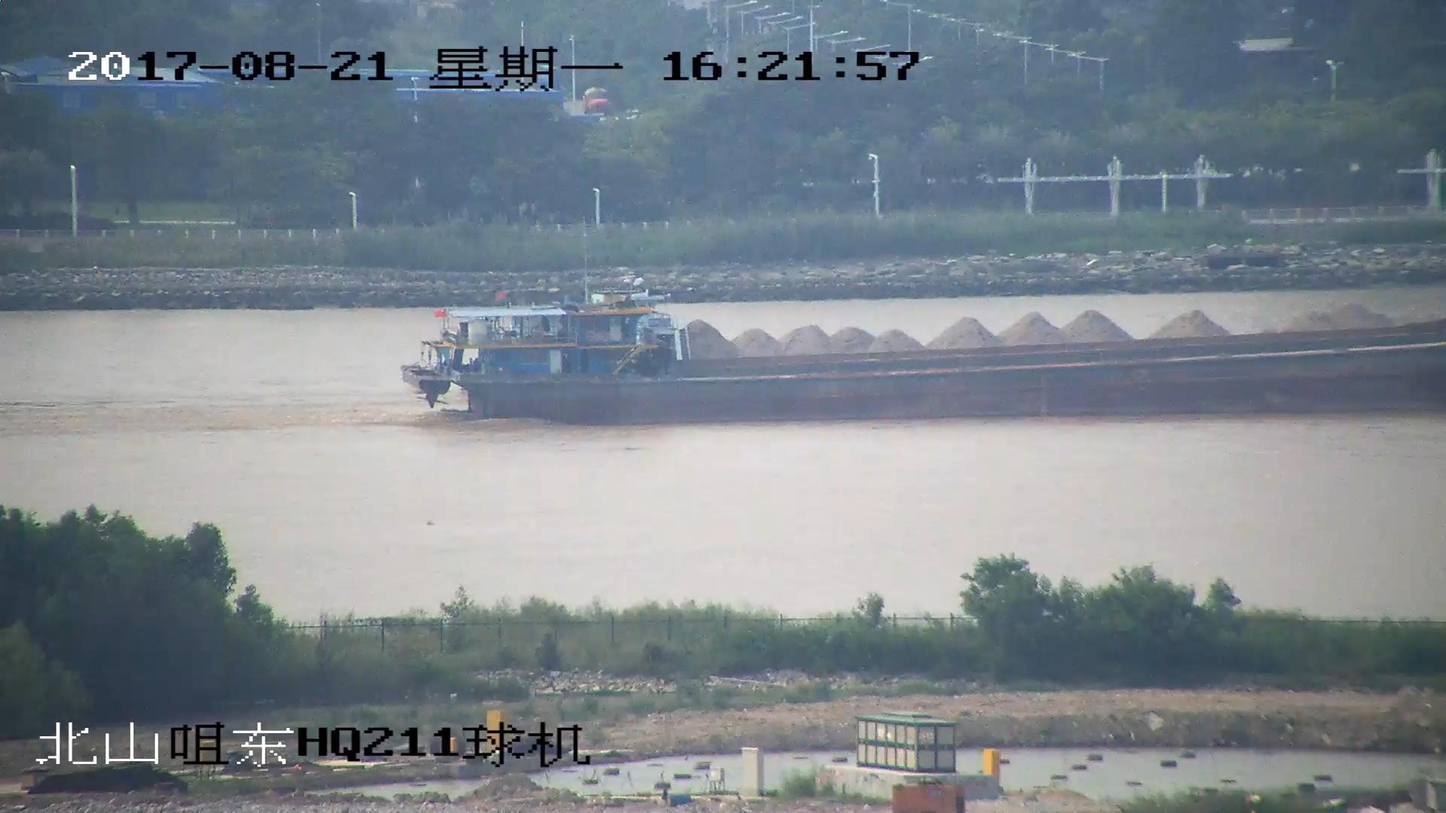bulk cargo carrier: (404, 308, 1445, 415)
ore carrier: (490, 285, 1445, 350)
